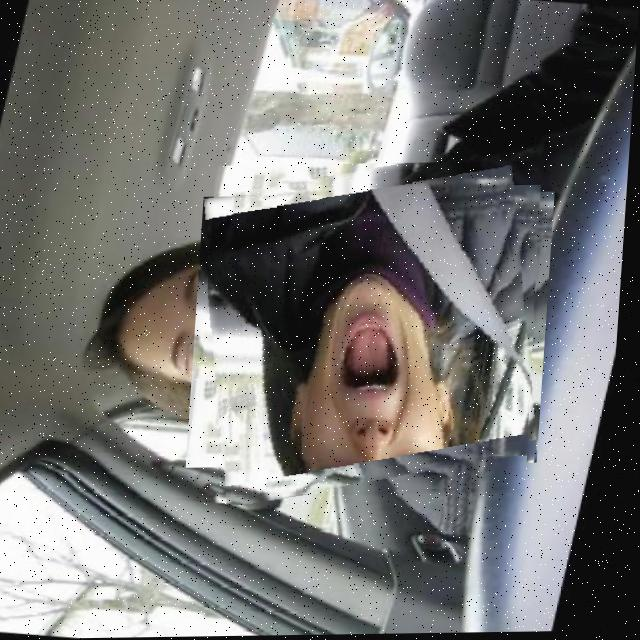seatbelt: (200, 163, 548, 498)
